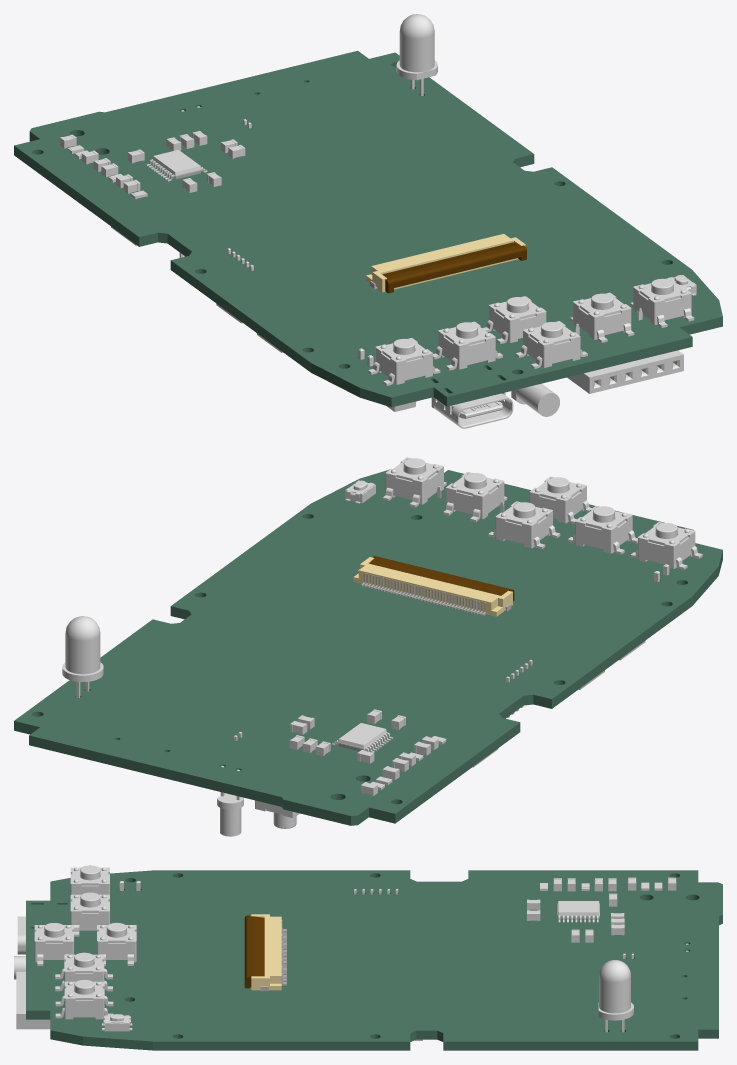
File: sda_evo.glb
3 renders of one model, top to bottom at view 1: azimuth 30°, elevation 25°; view 2: azimuth 150°, elevation 25°; view 3: azimuth 270°, elevation 25°, orthographic. The views are drawn at different scales.
Parts seen in each view (by area): view 1: =>[0:1:1:36], EXP1, lock, R34, SW6, SW2, SW5, SW7, SW3, body, SW4, J2 (+2 smaller); view 2: =>[0:1:1:36], body, R34, SW6, SW4, SW2, SW3, SW7, SW5, pins, lock, U7 (+2 smaller); view 3: =>[0:1:1:36], R34, SW3, body, SW4, SW5, SW6, SW7, lock, SW2, U7, EXP1 (+3 smaller).
Part boxes in pixels (<box>): =>[0:1:1:36]: <box>14,50,722,407</box>; EXP1: <box>567,308,683,393</box>; lock: <box>382,242,526,293</box>; R34: <box>396,14,437,95</box>; SW6: <box>433,321,502,370</box>; SW2: <box>368,338,440,385</box>; SW5: <box>515,321,587,368</box>; SW7: <box>570,292,634,342</box>; SW3: <box>630,277,694,327</box>; body: <box>366,234,525,292</box>; SW4: <box>482,296,546,344</box>; J2: <box>431,392,513,428</box>; =>[0:1:1:36]: <box>14,469,722,825</box>; body: <box>353,557,512,616</box>; R34: <box>62,616,103,697</box>; SW6: <box>568,505,637,554</box>; SW4: <box>488,501,560,549</box>; SW2: <box>630,522,702,569</box>; SW3: <box>382,457,446,507</box>; SW7: <box>443,472,507,522</box>; SW5: <box>529,476,591,524</box>; pins: <box>357,569,511,616</box>; lock: <box>369,556,514,601</box>; U7: <box>331,723,393,752</box>; =>[0:1:1:36]: <box>26,870,722,1050</box>; R34: <box>598,960,633,1032</box>; SW3: <box>55,979,113,1019</box>; body: <box>251,914,281,990</box>; SW4: <box>97,922,136,965</box>; SW5: <box>34,923,73,965</box>; SW6: <box>70,892,109,936</box>; SW7: <box>55,952,112,991</box>; lock: <box>244,915,264,988</box>; SW2: <box>70,865,109,894</box>; U7: <box>557,901,599,922</box>; EXP1: <box>16,971,50,1029</box>.
Bounding box in the file's own units: 0.0615 × 0.0216 × 0.1077.
